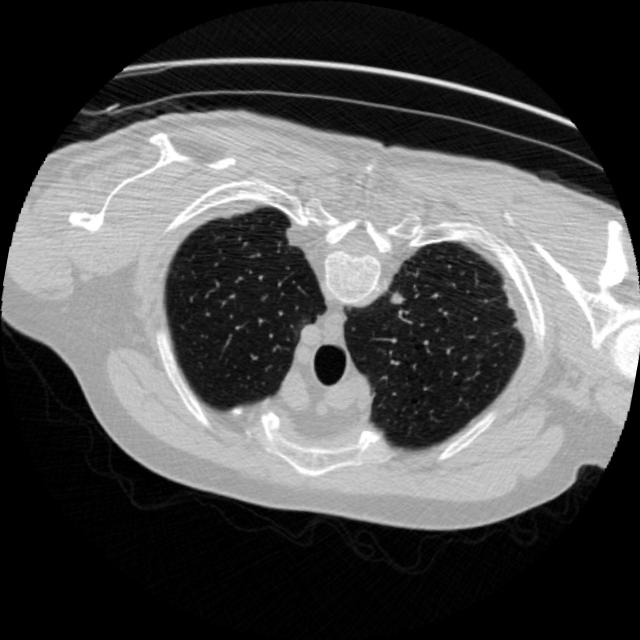nodule: (383, 284, 412, 314)
